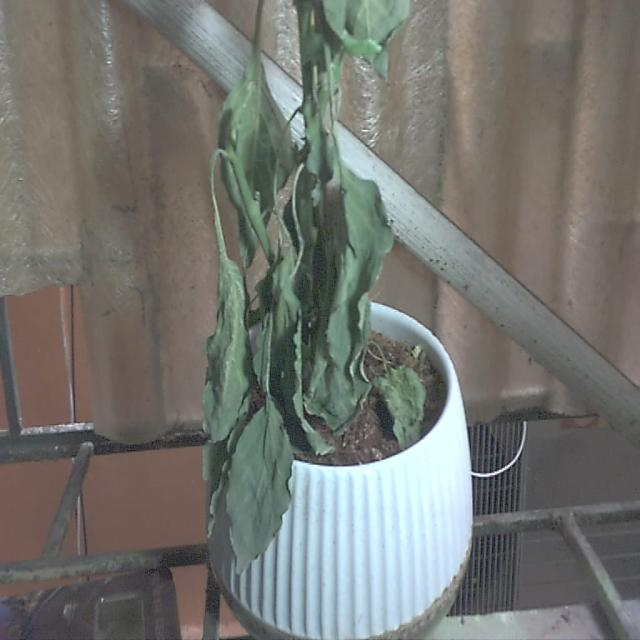Leaf: (224, 404, 294, 579), (331, 170, 389, 378), (203, 256, 251, 437)
